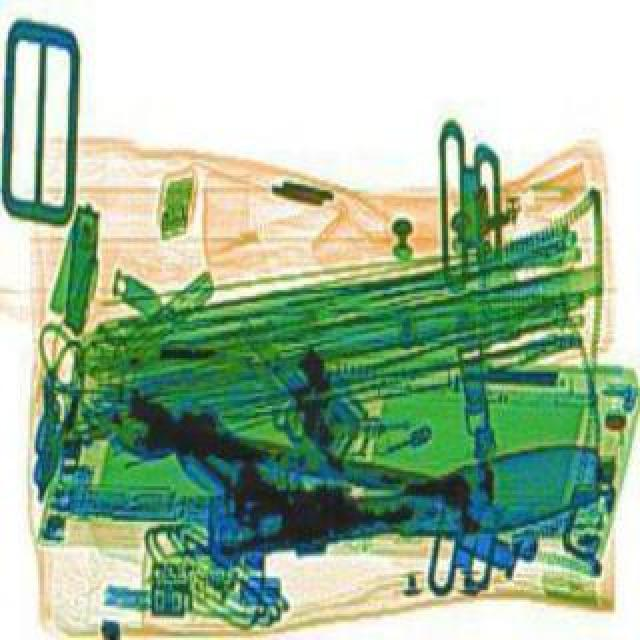knife: (240, 430, 614, 558)
